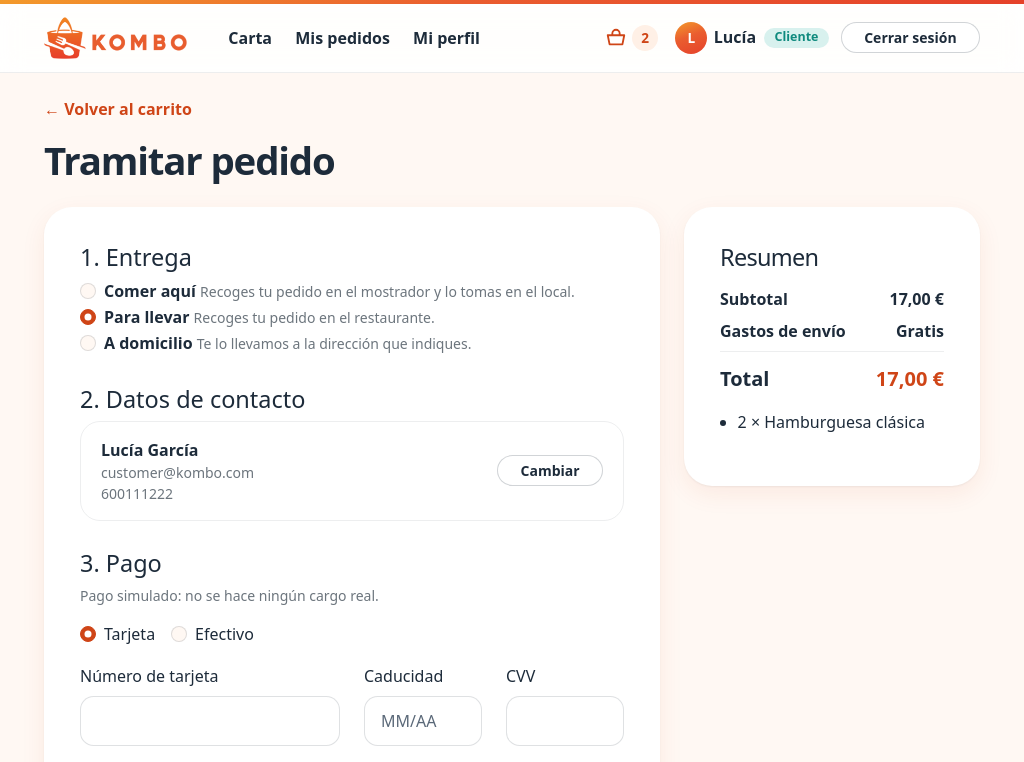
Test case: CheckoutPage › lets the customer change their saved data for this order
Click the button "Cambiar". click: (550, 471)
box: [497, 456, 603, 486]
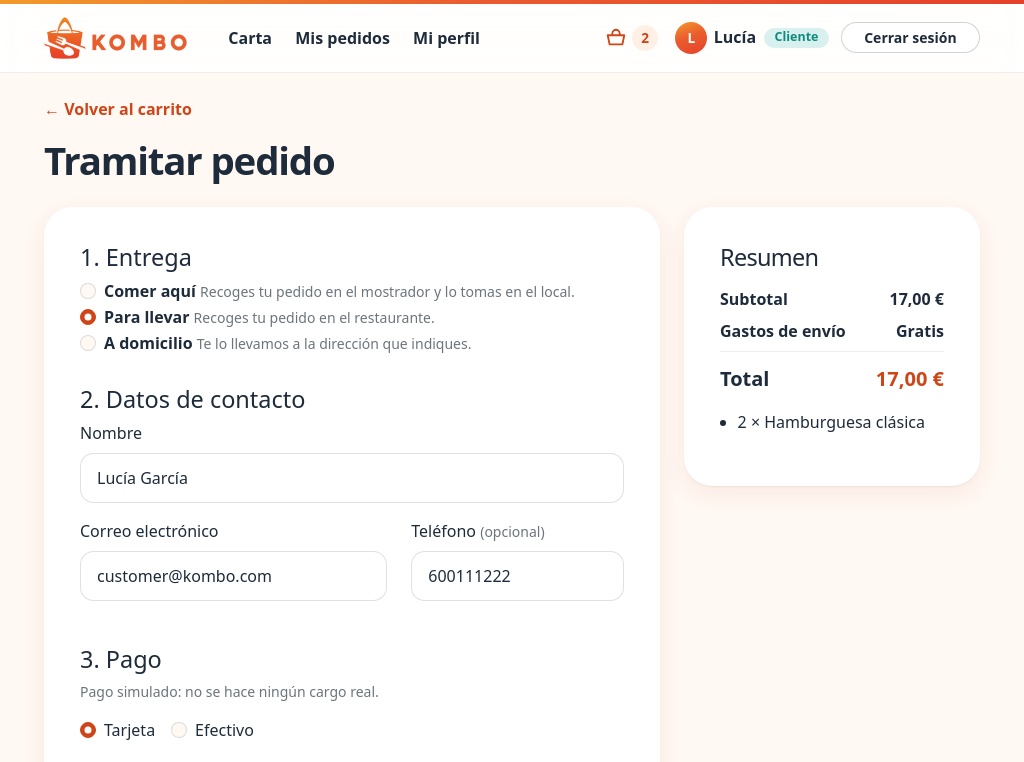
Result: the field labelled "Nombre" holds "Lucía García" at [80, 453, 624, 503]
Replace the text in the field labelled "Teléfono (opcional)" with "699999999". click: (518, 576)
box: [411, 551, 624, 601]
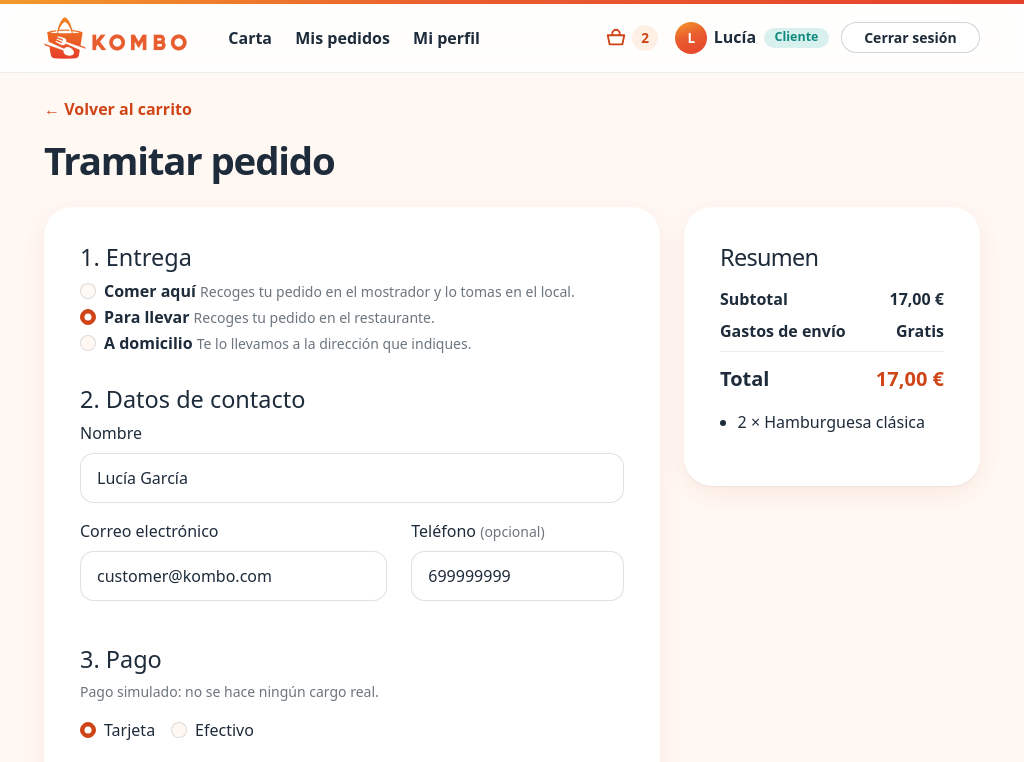
Click the radio button labelled "Efectivo". click: (179, 730)
box: [171, 722, 187, 738]
(page scrolled)
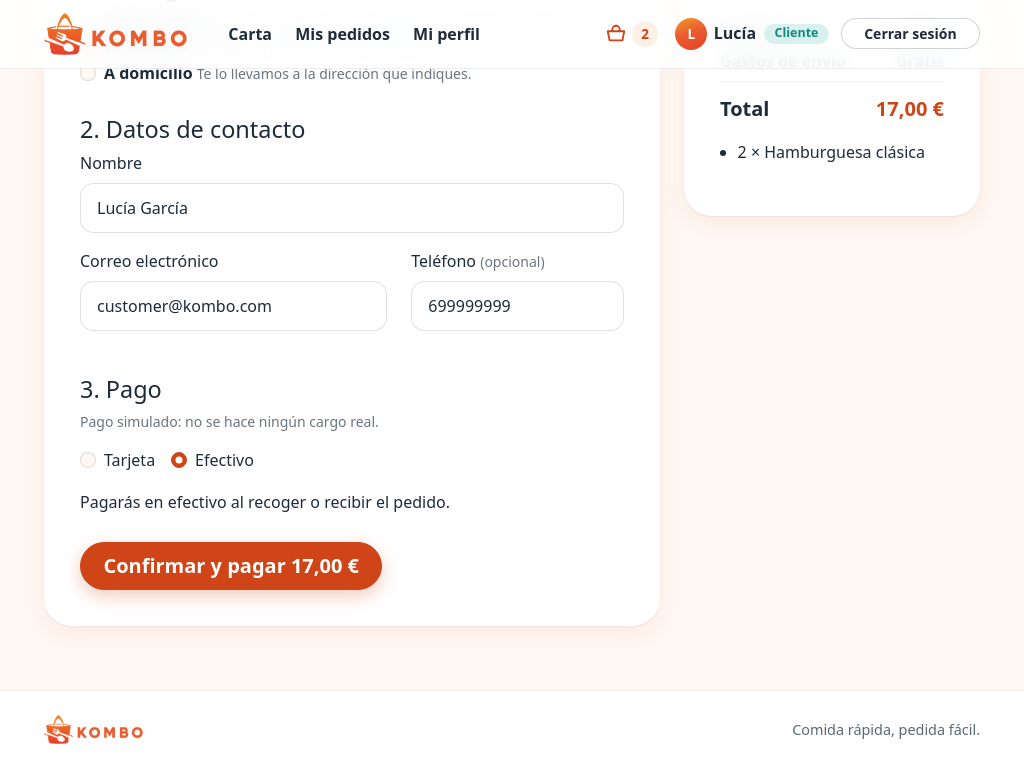
Click the button "Confirmar y pagar 17,00 €". click: (231, 566)
box: [80, 542, 382, 590]
(page scrolled)
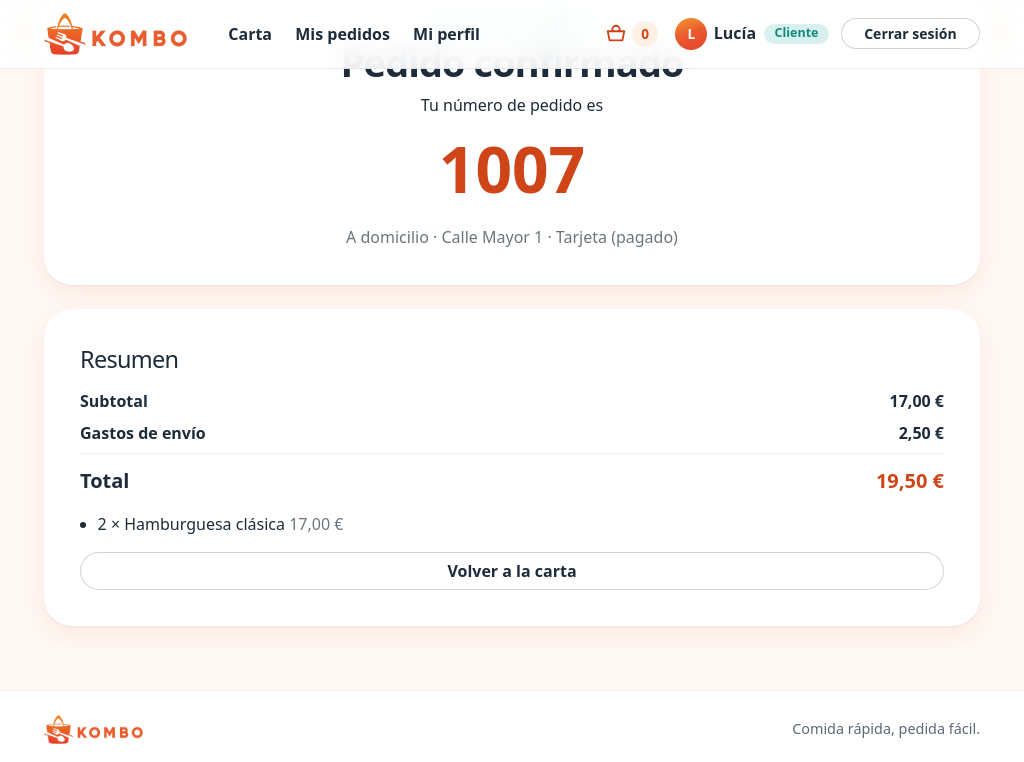
Result: the heading "Pedido confirmado" is shown at [340, 36, 684, 88]
